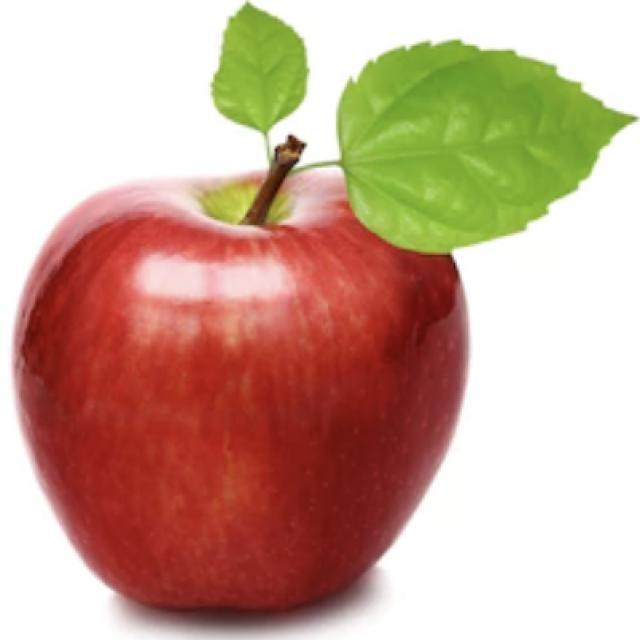Fresh Apple: (40, 172, 455, 620)
